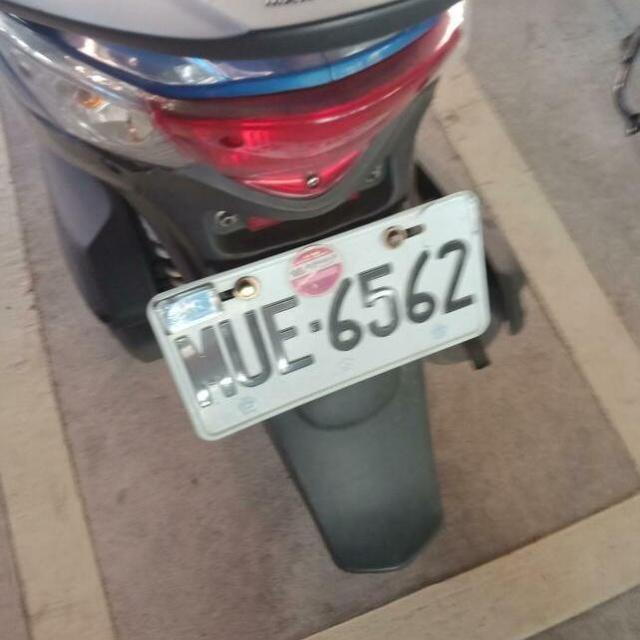W: (135, 186, 512, 447)
